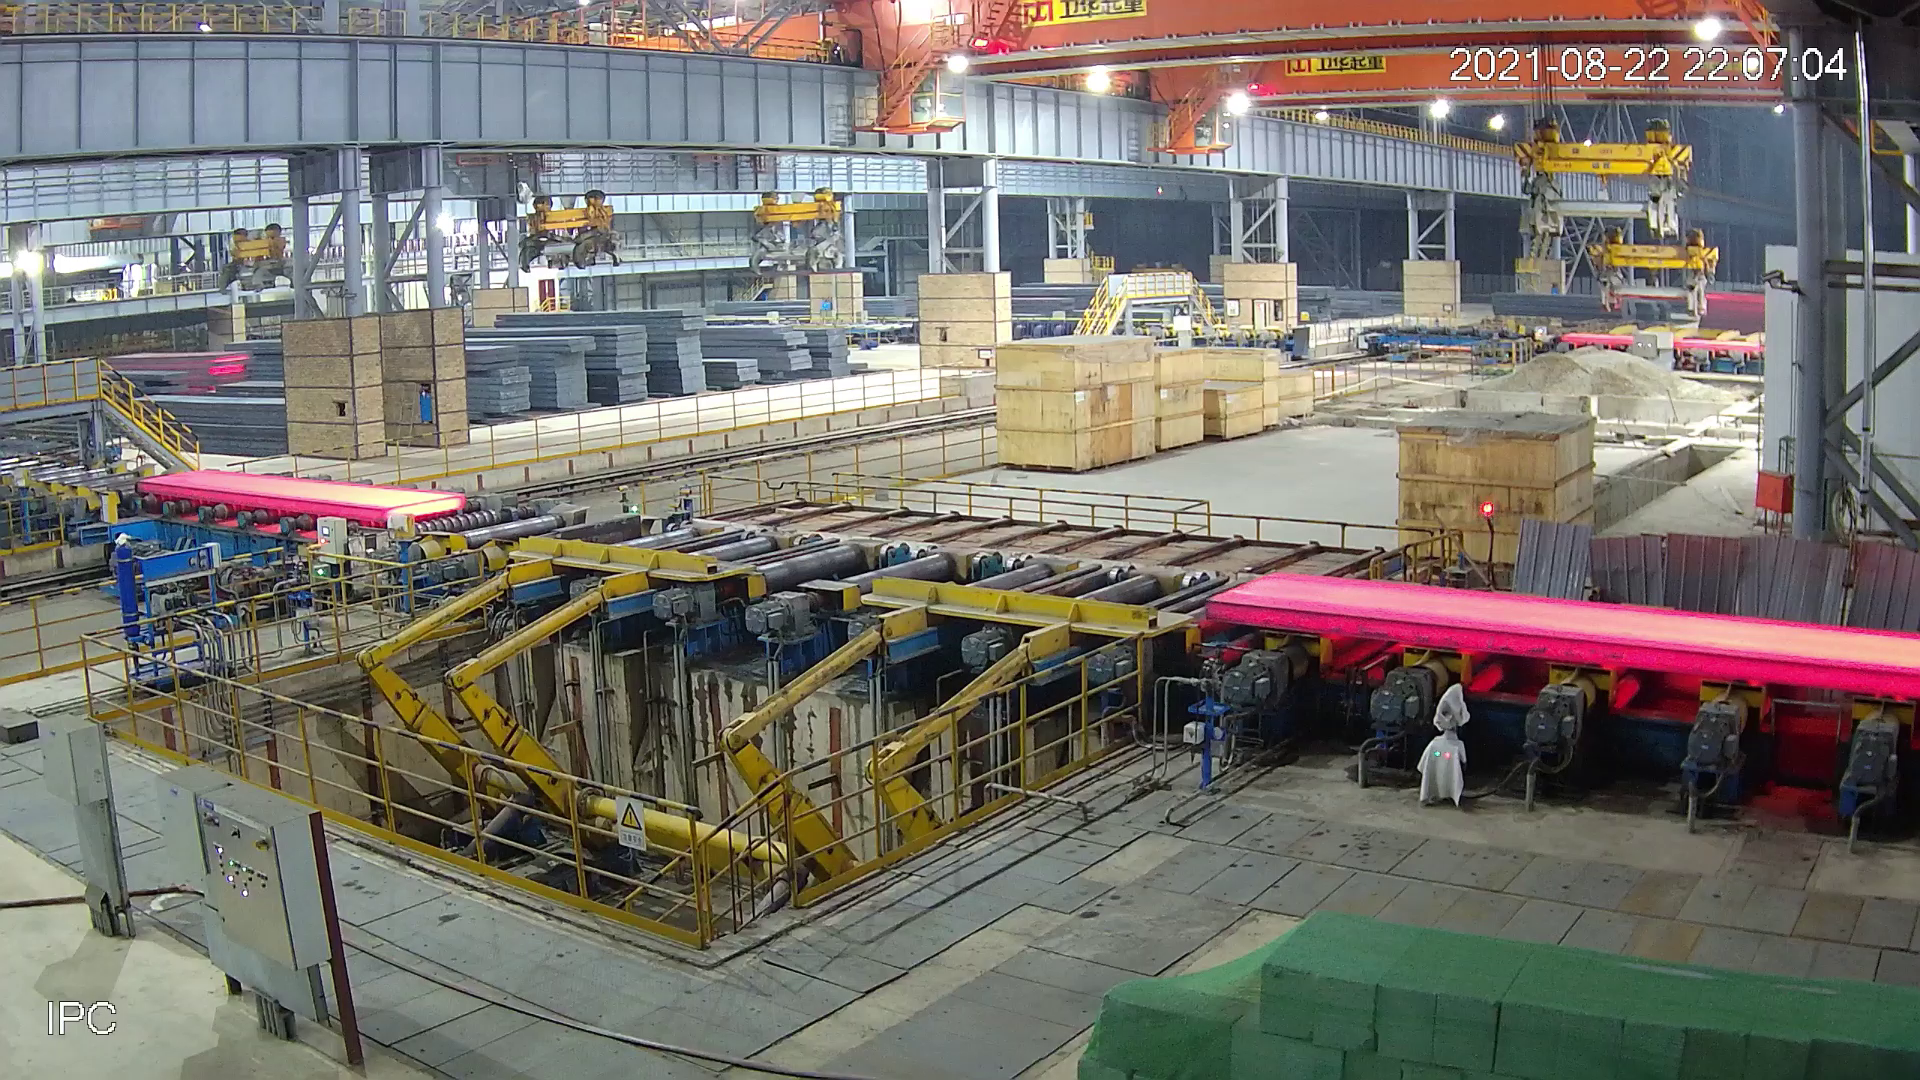slab: (1205, 571, 1920, 698), (135, 467, 465, 520)
